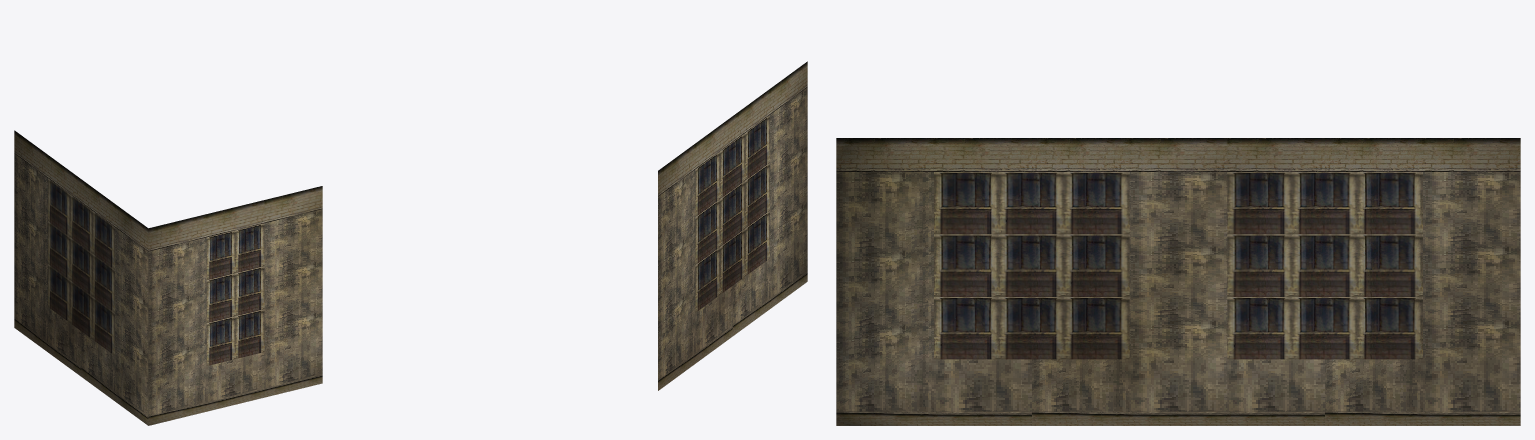
Rendered from M10_Z2_NewBuild07.glb.
3 renders of one model, left to right at view 1: azimuth 30°, elevation 25°; view 2: azimuth 150°, elevation 25°; view 3: azimuth 270°, elevation 25°, orthographic. The views are drawn at different scales.
Parts seen in each view (by area): view 1: M10_Z2_NEWBUILD07; view 2: M10_Z2_NEWBUILD07; view 3: M10_Z2_NEWBUILD07.
Part boxes in pixels (x1,y1,x2,y2): M10_Z2_NEWBUILD07: (14,130,322,425); M10_Z2_NEWBUILD07: (658,61,807,390); M10_Z2_NEWBUILD07: (836,138,1520,425).
Bounding box in the file's own units: 12 × 13.01 × 28.
Materials: 3 (3 with a texture image).
